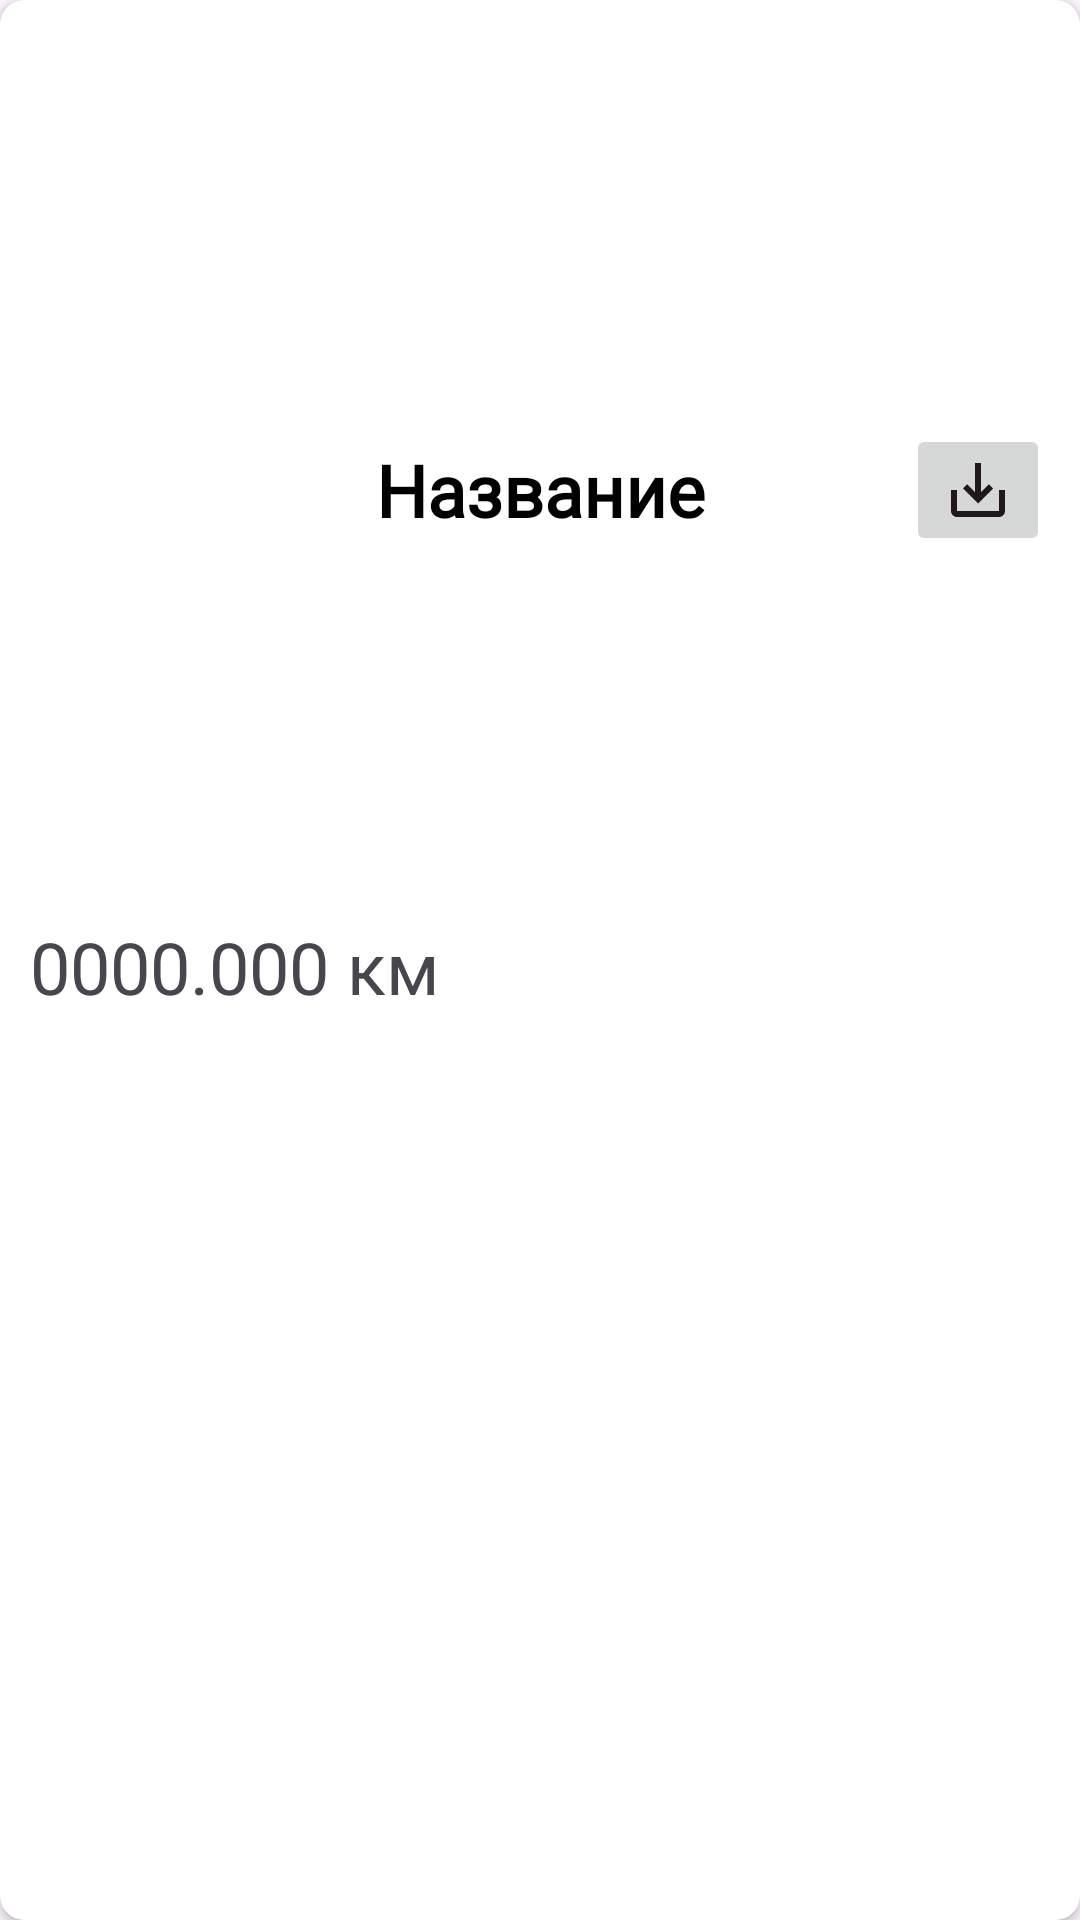

Icons on this 1080x1920 Android screen, each with the point to tap as (x,y):
id save track: (978,490)
